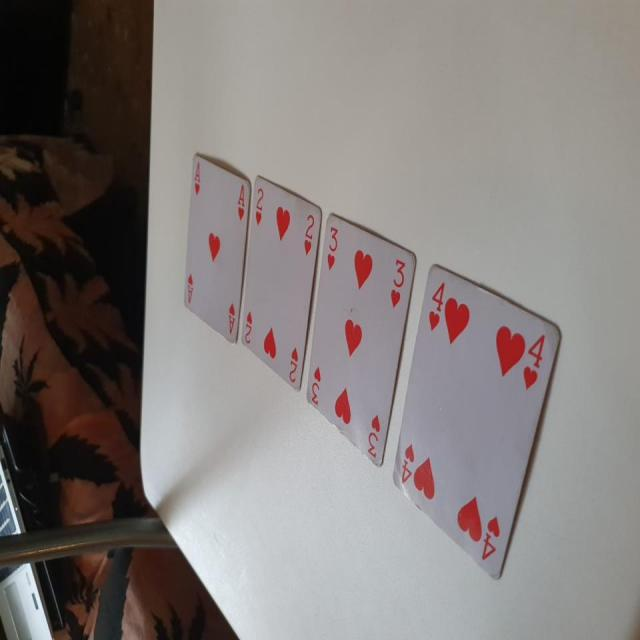2 Hearts: (236, 167, 326, 400)
3 Hearts: (304, 210, 417, 482)
4 Hearts: (384, 246, 562, 572)
A Hearts: (180, 148, 253, 348)
